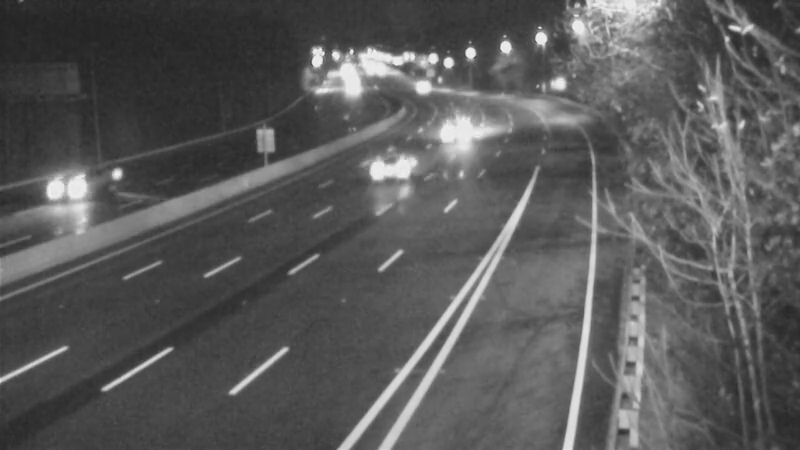vehicle: (353, 120, 433, 200), (24, 149, 104, 229), (398, 60, 448, 110), (424, 109, 474, 159)
